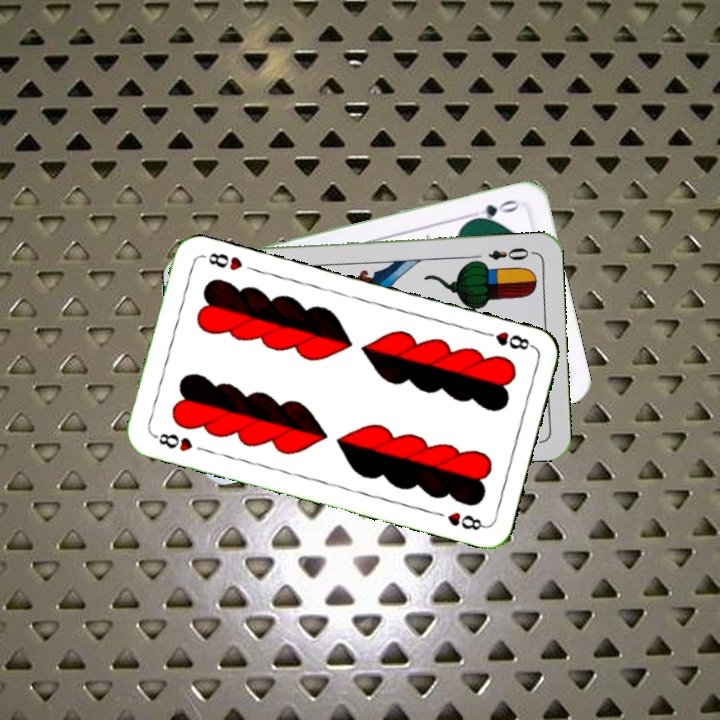EO: (484, 243, 536, 263)
GO: (466, 196, 524, 224)
H8: (478, 327, 536, 353), (149, 429, 196, 454)
